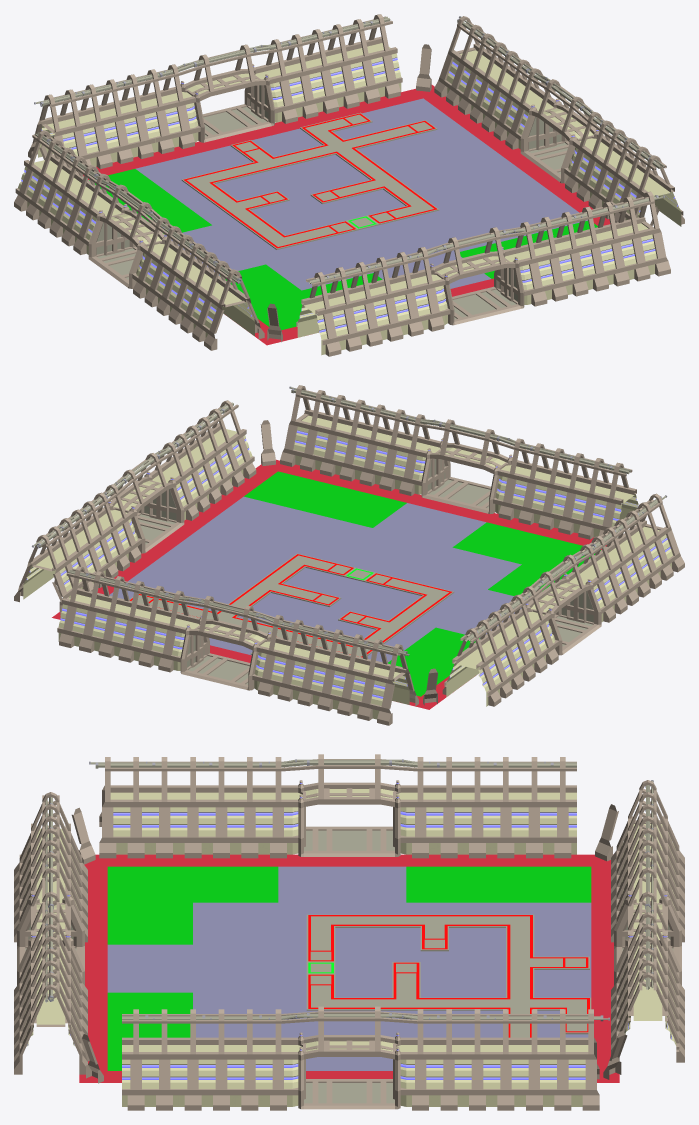
File: Map_Tutorial.glb
The picture shows the model from 3 angles, top to bottom: view 1: azimuth 30°, elevation 25°; view 2: azimuth 150°, elevation 25°; view 3: azimuth 270°, elevation 25°; orthographic projection. The views are drawn at different scales.
Visible parts, largest first — view 1: Plane, Wall_Stub, Wall_Stub.005, Wall_Stub.004, Wall_Stub.001, Wall_Stub.002, Wall_Stub.007, Wall_Stub.003, Wall_Stub.006, Wall_Clamp.012, Wall_Clamp.015, Wall_Clamp.013 (+18 smaller); view 2: Plane, Wall_Stub, Wall_Stub.005, Wall_Stub.004, Wall_Stub.001, Wall_Stub.006, Wall_Stub.003, Wall_Stub.002, Wall_Stub.007, Wall_Clamp.003, Wall_Clamp.012, Wall_Clamp.002 (+17 smaller); view 3: Plane, Wall_Stub.002, Wall_Stub.003, Wall_Stub.007, Wall_Stub.006, Wall_Clamp.009, Wall_Clamp.010, Wall_Clamp.017, Wall_Clamp.018, Wall_Clamp.001, Wall_Clamp.011, Wall_Clamp.016 (+18 smaller).
Boxes of the visible parts, bbox=[...] form: Plane: bbox=[83, 85, 610, 345]; Wall_Stub: bbox=[212, 34, 320, 133]; Wall_Stub.005: bbox=[461, 217, 569, 316]; Wall_Stub.004: bbox=[388, 237, 488, 336]; Wall_Stub.001: bbox=[139, 54, 238, 153]; Wall_Stub.002: bbox=[61, 165, 147, 273]; Wall_Stub.007: bbox=[493, 59, 579, 167]; Wall_Stub.003: bbox=[109, 199, 190, 307]; Wall_Stub.006: bbox=[541, 94, 622, 201]; Wall_Clamp.012: bbox=[296, 267, 363, 356]; Wall_Clamp.015: bbox=[594, 196, 651, 286]; Wall_Clamp.013: bbox=[347, 257, 404, 346]; Plane: bbox=[52, 459, 606, 709]; Wall_Stub: bbox=[137, 585, 240, 682]; Wall_Stub.005: bbox=[377, 409, 482, 505]; Wall_Stub.004: bbox=[456, 429, 552, 524]; Wall_Stub.001: bbox=[215, 605, 311, 701]; Wall_Stub.006: bbox=[127, 434, 210, 538]; Wall_Stub.003: bbox=[544, 535, 627, 640]; Wall_Stub.002: bbox=[502, 569, 581, 672]; Wall_Stub.007: bbox=[81, 467, 164, 571]; Wall_Clamp.003: bbox=[335, 634, 399, 720]; Wall_Clamp.012: bbox=[576, 458, 638, 541]; Wall_Clamp.002: bbox=[296, 624, 351, 711]; Plane: bbox=[79, 854, 619, 1082]; Wall_Stub.002: bbox=[349, 754, 463, 858]; Wall_Stub.003: bbox=[235, 754, 349, 858]; Wall_Stub.007: bbox=[349, 1006, 463, 1110]; Wall_Stub.006: bbox=[235, 1006, 349, 1110]; Wall_Clamp.009: bbox=[463, 757, 520, 858]; Wall_Clamp.010: bbox=[178, 757, 235, 858]; Wall_Clamp.017: bbox=[178, 1009, 235, 1110]; Wall_Clamp.018: bbox=[463, 1009, 520, 1110]; Wall_Clamp.001: bbox=[520, 757, 576, 858]; Wall_Clamp.011: bbox=[122, 757, 178, 858]; Wall_Clamp.016: bbox=[122, 1009, 178, 1110].
Size of the model in its own units: 47.18 by 6.84 by 47.18.
